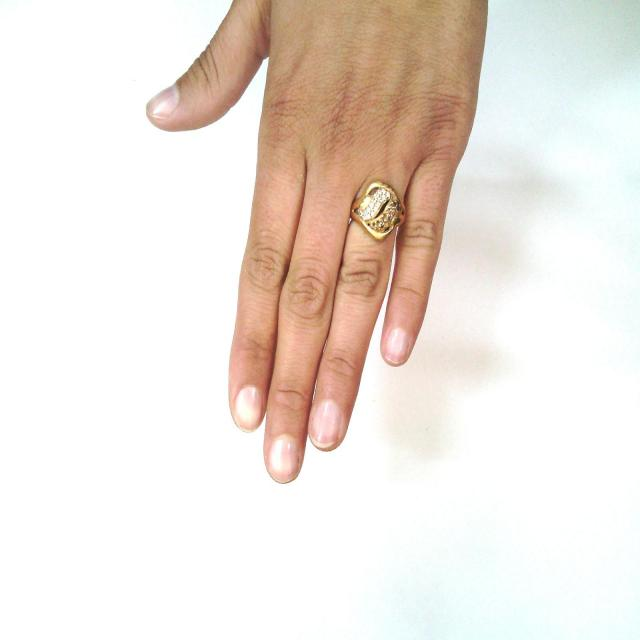others: (142, 1, 510, 504)
